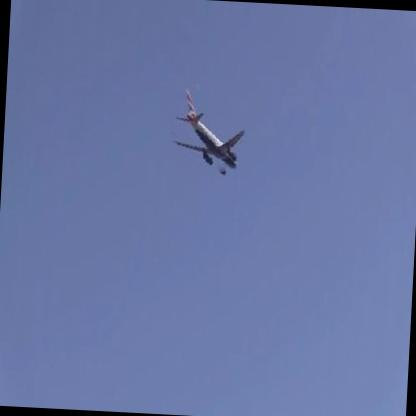plane: (162, 78, 251, 180)
